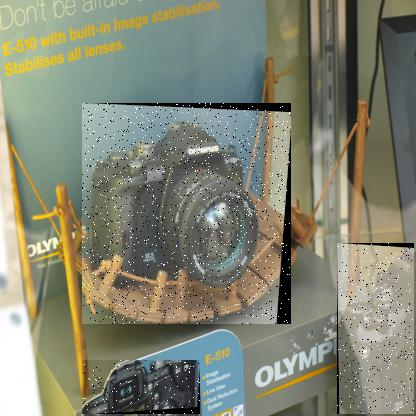Camera: (83, 104, 293, 326), (338, 244, 416, 416), (83, 361, 202, 416)
